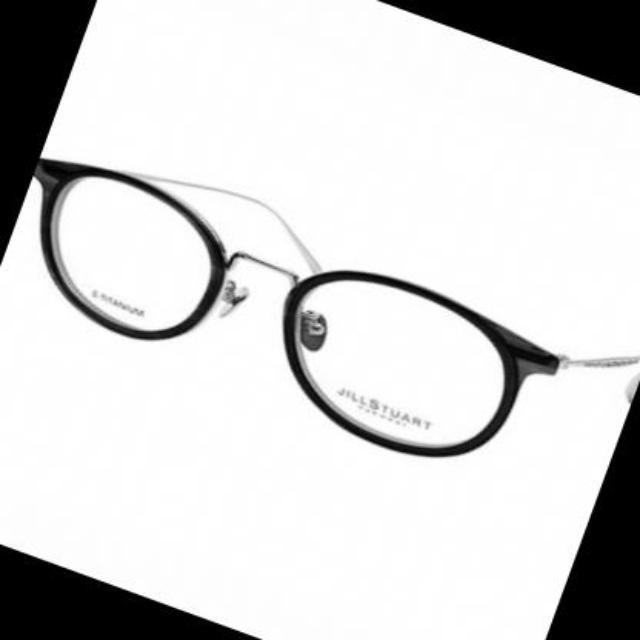glasses: (23, 149, 640, 461)
